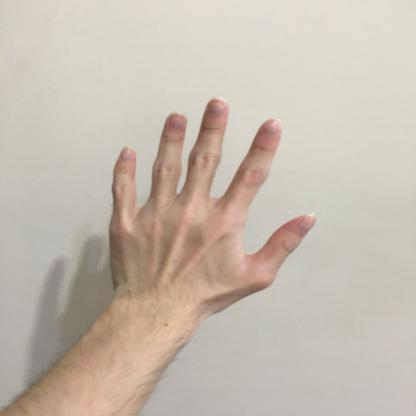bare_hand: (101, 87, 323, 332)
